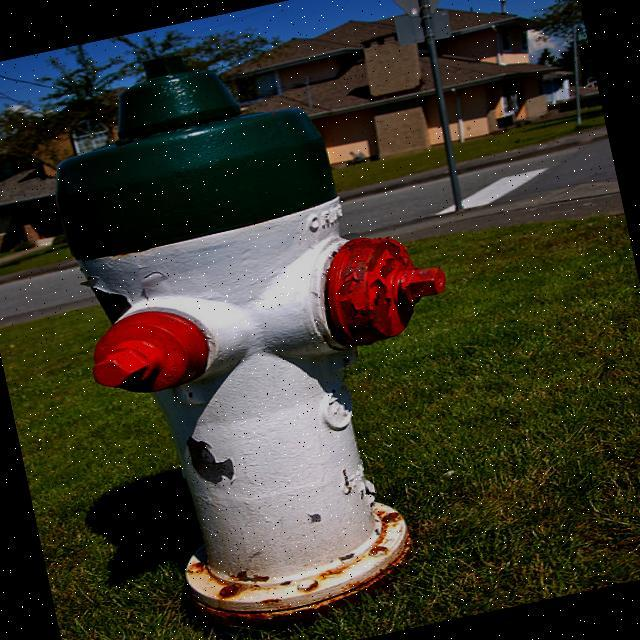fire_hydrant: (24, 9, 509, 640)
